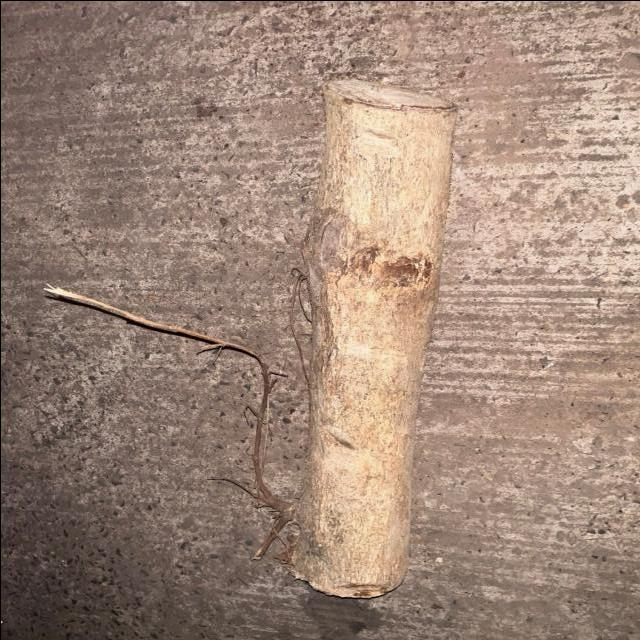General: (40, 74, 461, 602)
Pathological: (276, 74, 461, 601)
Sharps: (40, 278, 300, 563)
